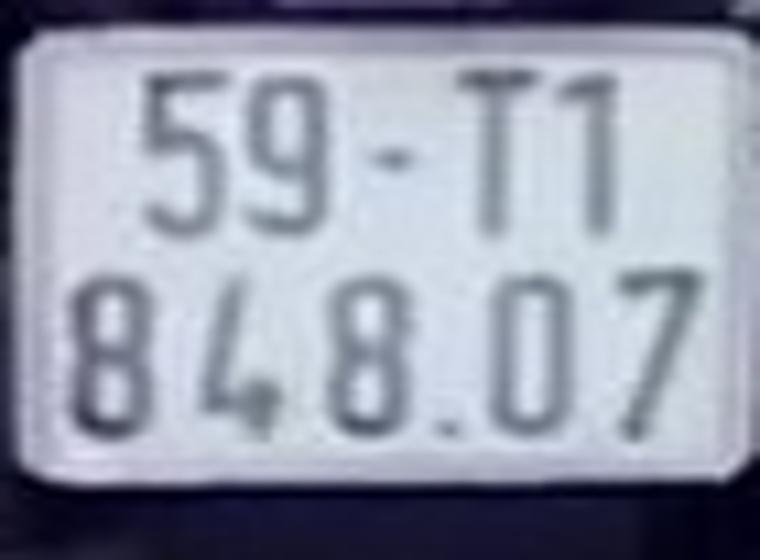-: (373, 150, 410, 167)
.: (436, 418, 457, 436)
0: (488, 279, 571, 435)
1: (556, 73, 614, 238)
4: (201, 274, 281, 432)
5: (143, 78, 221, 239)
7: (618, 269, 701, 439)
8: (69, 276, 155, 437), (327, 276, 405, 432)
9: (245, 79, 322, 233)
T: (456, 70, 537, 242)
